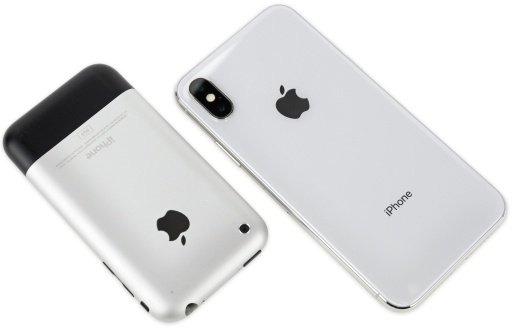apple: (265, 71, 320, 143), (152, 203, 198, 251)
